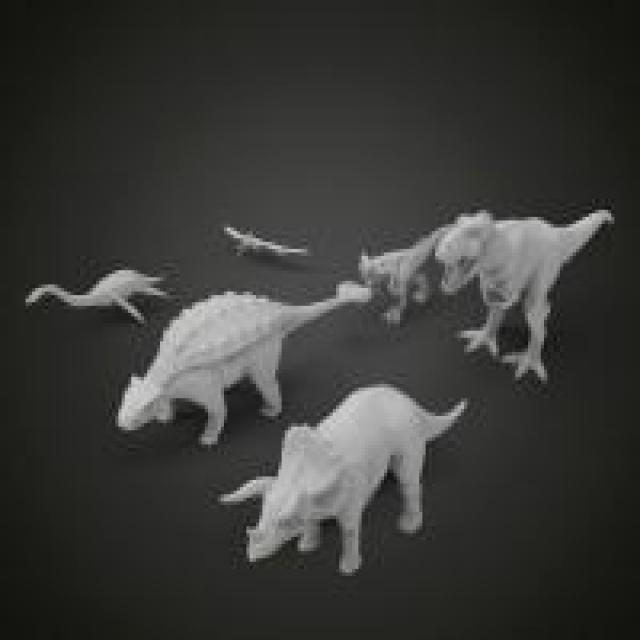Without deffect: (25, 174, 622, 576)
